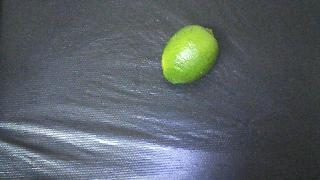LOCAL: (161, 25, 219, 84)
